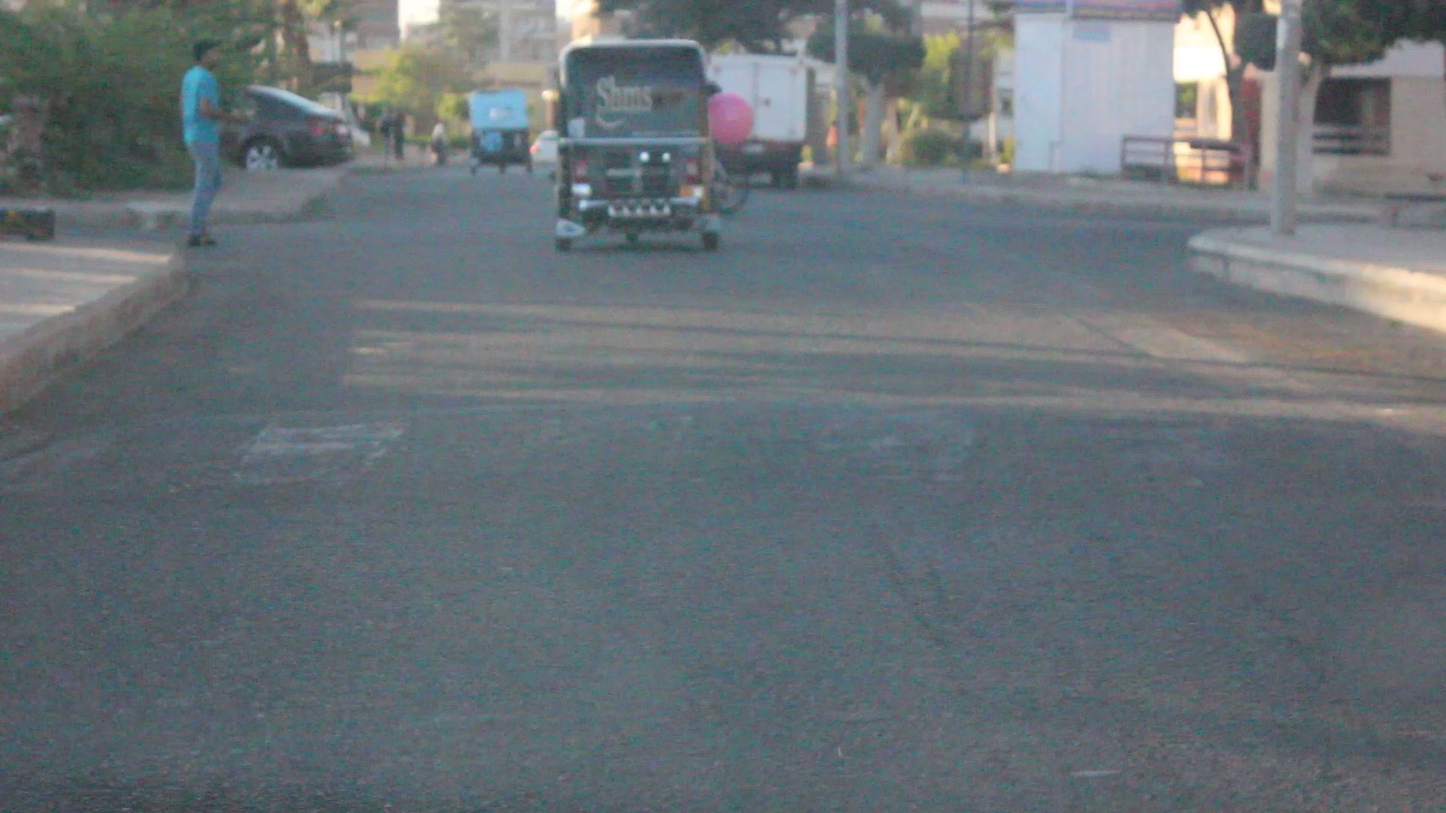Bump: (0, 389, 1445, 511)
